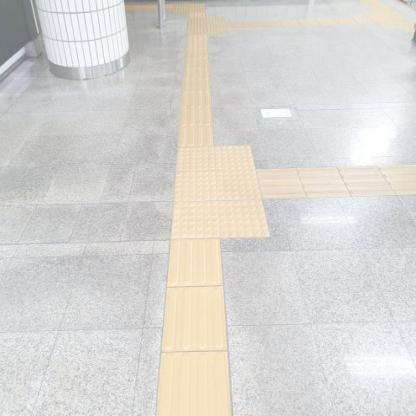podotacti: (132, 116, 298, 275), (157, 238, 228, 415), (258, 168, 415, 195), (179, 36, 214, 145)
